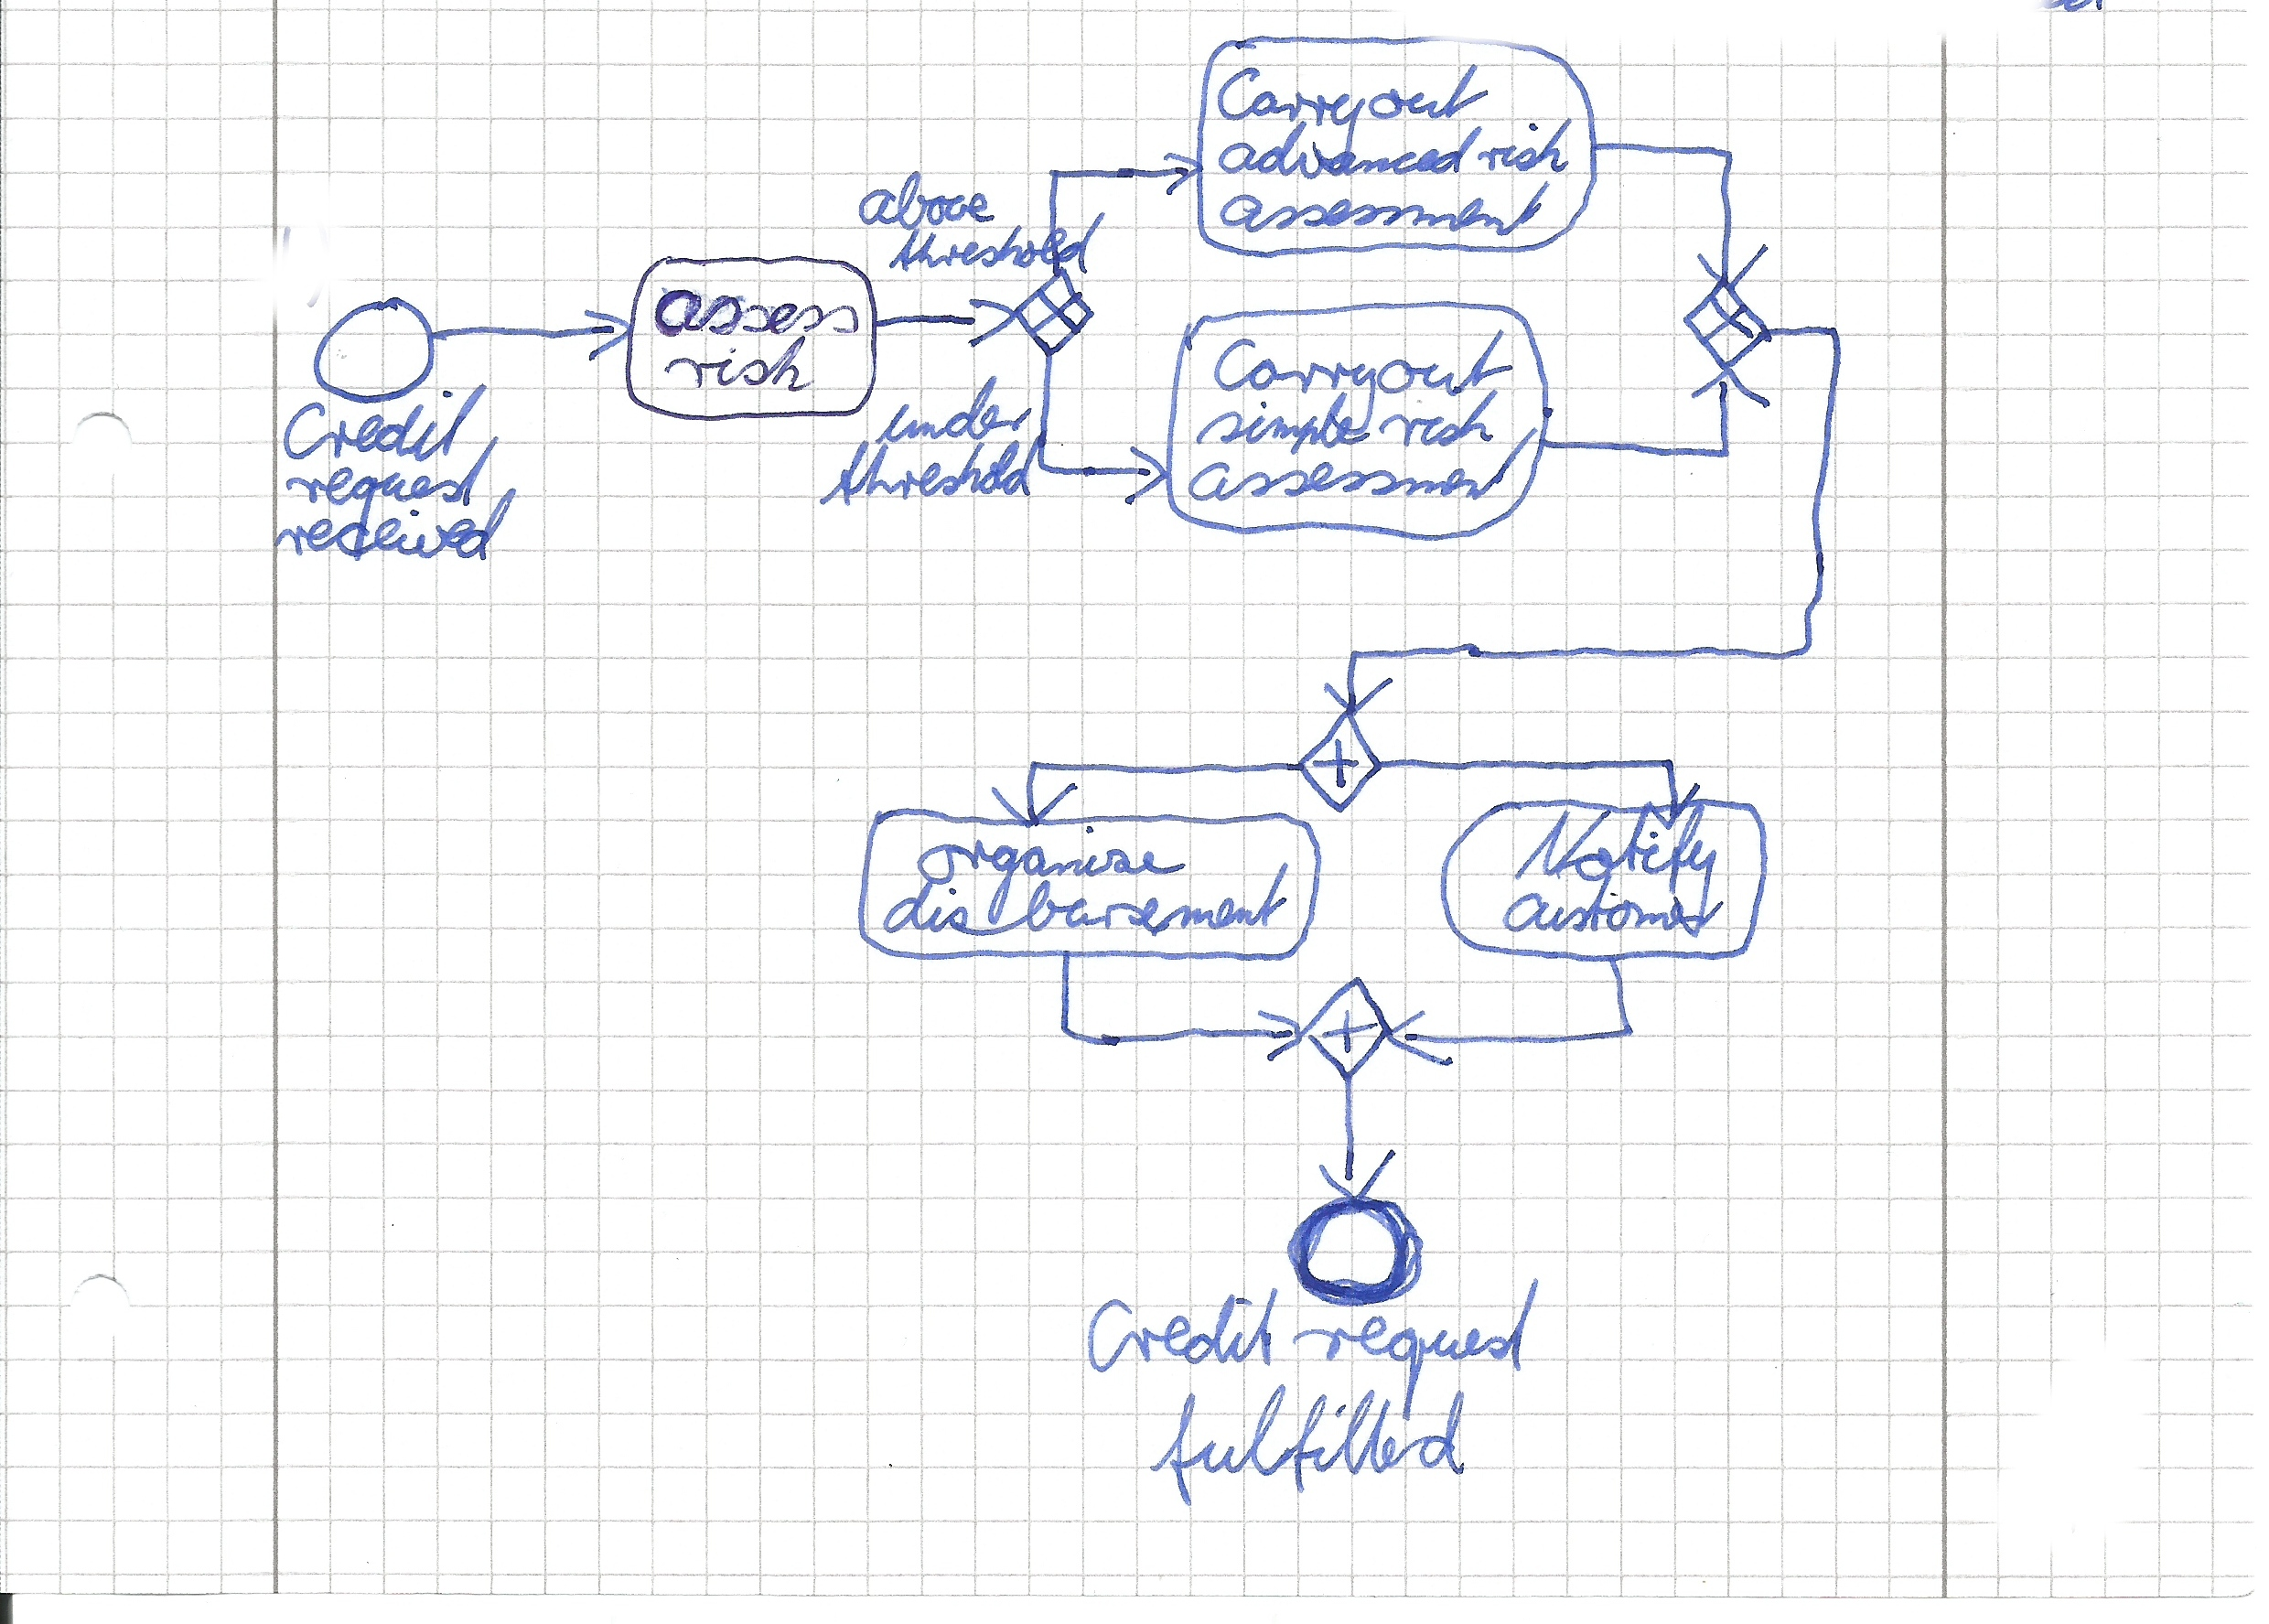Carry: (1207, 332, 1380, 438), (1214, 63, 1367, 179)
Credit: (279, 380, 494, 468), (1083, 1283, 1285, 1376)
Notify: (1508, 800, 1717, 896)
above: (852, 167, 1000, 236)
advanced: (1211, 116, 1487, 185)
assess: (650, 285, 861, 341)
assessment: (1183, 424, 1543, 506), (1214, 178, 1555, 239)
customer: (1497, 870, 1728, 942)
disbursement: (877, 866, 1294, 940)
fulfilled: (1144, 1380, 1469, 1512)
organize: (910, 821, 1188, 905)
out: (1373, 325, 1519, 402), (1366, 62, 1494, 125)
received: (271, 499, 517, 564)
request: (1287, 1272, 1543, 1425), (281, 438, 501, 520)
rich: (1473, 111, 1577, 179)
risk: (659, 332, 819, 397), (1374, 385, 1504, 452)
simple: (1192, 388, 1374, 459)
threshold: (814, 434, 1048, 510), (882, 209, 1111, 278)
under: (870, 371, 1037, 452)
